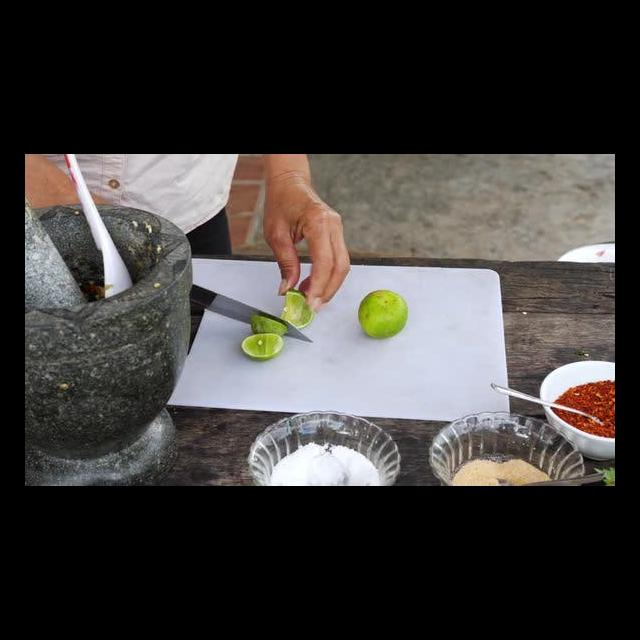lime: (353, 287, 412, 342)
